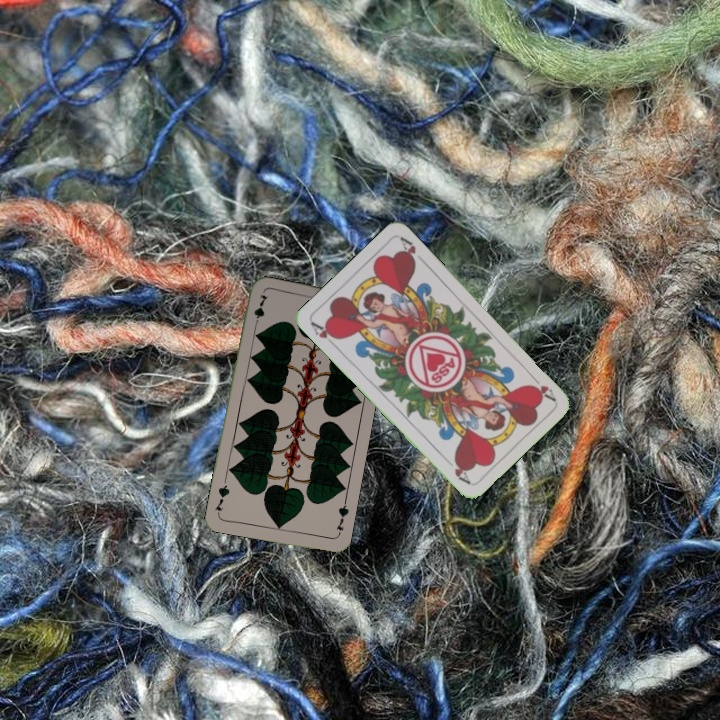G7: (332, 498, 351, 538), (250, 291, 268, 331)
HA: (307, 318, 342, 350), (526, 370, 558, 403)
